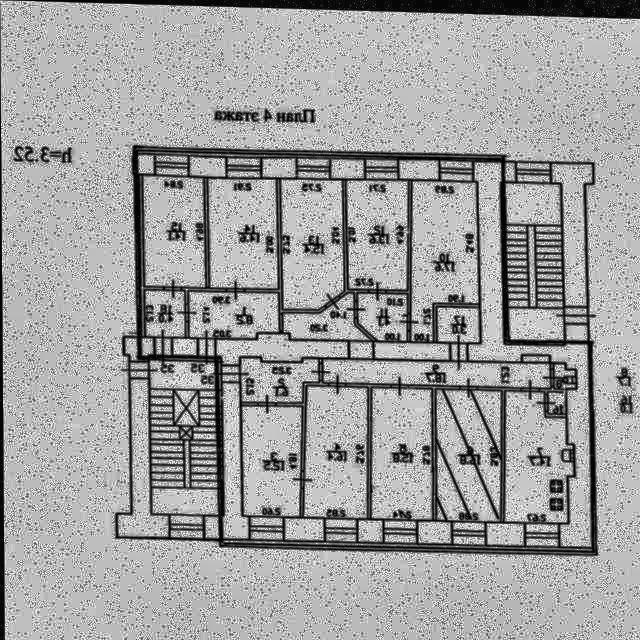room: (409, 177, 478, 339), (152, 355, 217, 515), (502, 387, 575, 520), (434, 386, 501, 518), (303, 384, 369, 516), (508, 178, 562, 338), (280, 175, 344, 308), (370, 383, 432, 518), (210, 175, 276, 289), (143, 174, 204, 287), (240, 404, 301, 515), (346, 178, 408, 287), (322, 357, 550, 385), (188, 289, 279, 337), (282, 290, 371, 338), (239, 355, 318, 401), (356, 290, 408, 339), (145, 288, 185, 336), (436, 304, 479, 339), (553, 359, 575, 385), (548, 388, 565, 411)
